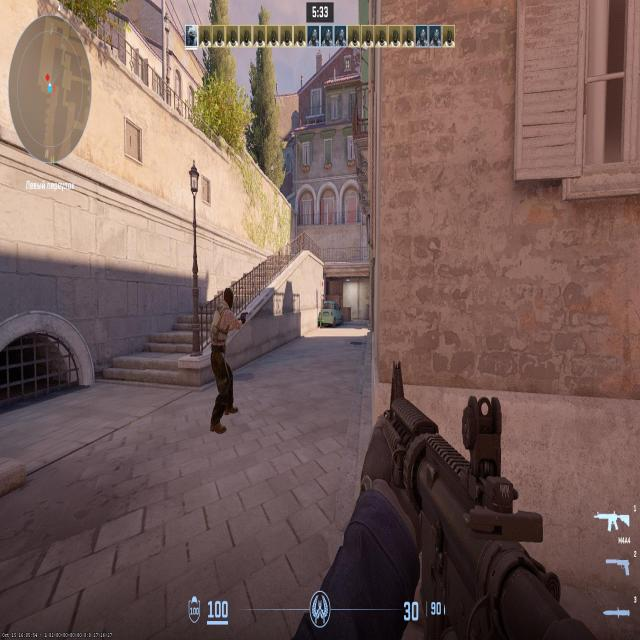T: (218, 292, 236, 418)
T_heat: (224, 291, 236, 315)
